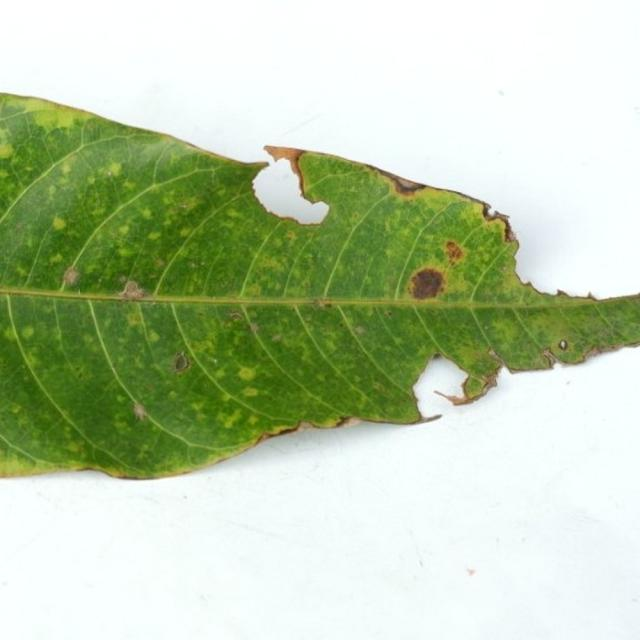Mango: (0, 94, 639, 477)
Powdery_Mildew: (408, 268, 446, 300), (236, 357, 261, 386), (119, 279, 147, 301), (445, 241, 464, 263), (171, 351, 190, 373), (62, 266, 80, 287), (133, 402, 148, 421), (52, 216, 67, 230), (222, 415, 238, 428), (244, 283, 261, 295), (0, 143, 14, 157), (20, 326, 34, 339), (107, 162, 121, 175), (227, 311, 243, 321), (148, 330, 160, 342), (284, 230, 297, 241), (15, 265, 28, 276), (248, 323, 259, 334), (50, 254, 62, 264), (123, 180, 135, 190), (148, 232, 161, 241), (118, 225, 129, 235), (141, 208, 152, 218), (155, 257, 165, 268), (558, 340, 568, 350), (354, 326, 365, 335), (271, 333, 282, 342), (10, 406, 21, 414)
